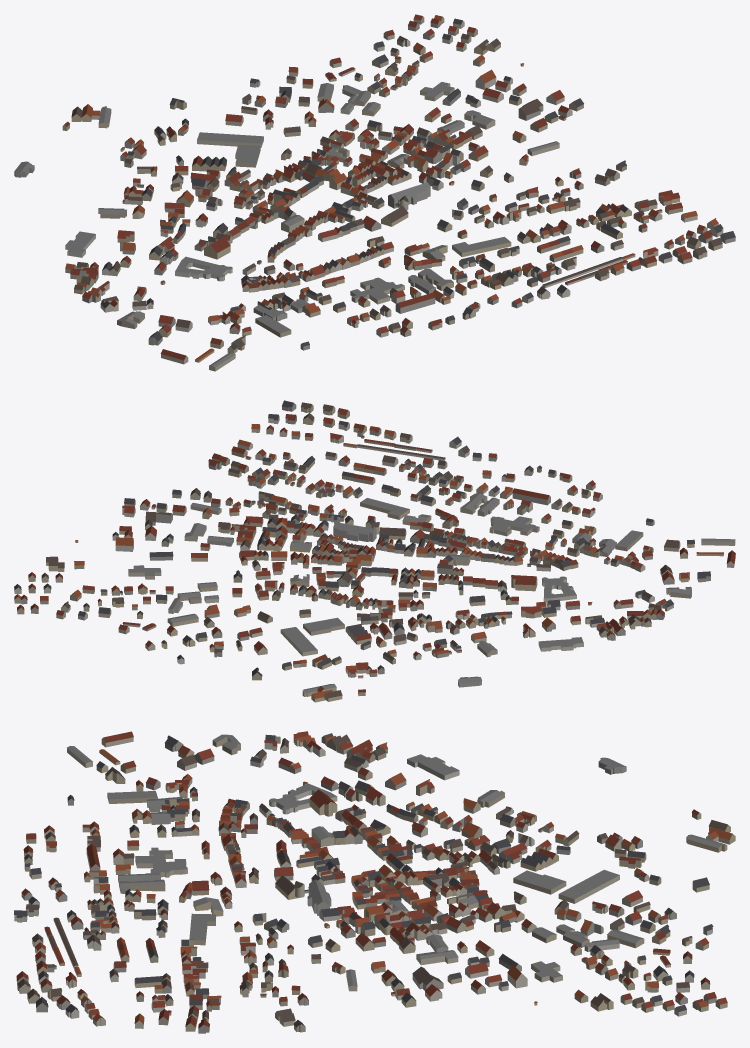
3 renders of one model, top to bottom at view 1: azimuth 30°, elevation 25°; view 2: azimuth 150°, elevation 25°; view 3: azimuth 270°, elevation 25°, orthographic. The views are drawn at different scales.
Parts seen in each view (by area): view 1: buildings; view 2: buildings; view 3: buildings.
Boxes of the visible parts, left/top/right/bottom form: buildings: left=14, top=14, right=735, bottom=371; buildings: left=14, top=400, right=735, bottom=702; buildings: left=14, top=731, right=735, bottom=1033.
Bounding box in the file's own units: 814 × 60.96 × 823.
